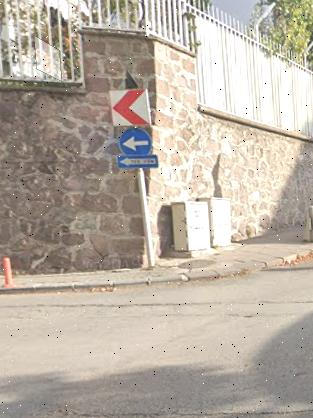turnleft: (116, 128, 156, 156)
